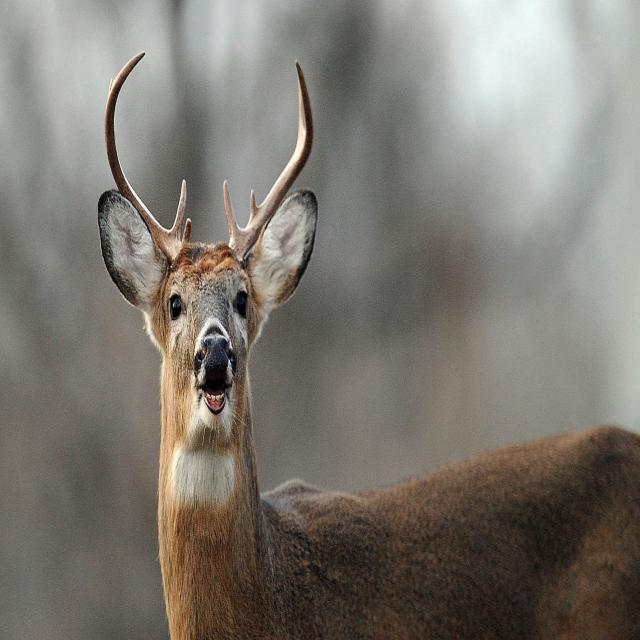deer: (98, 55, 640, 639)
